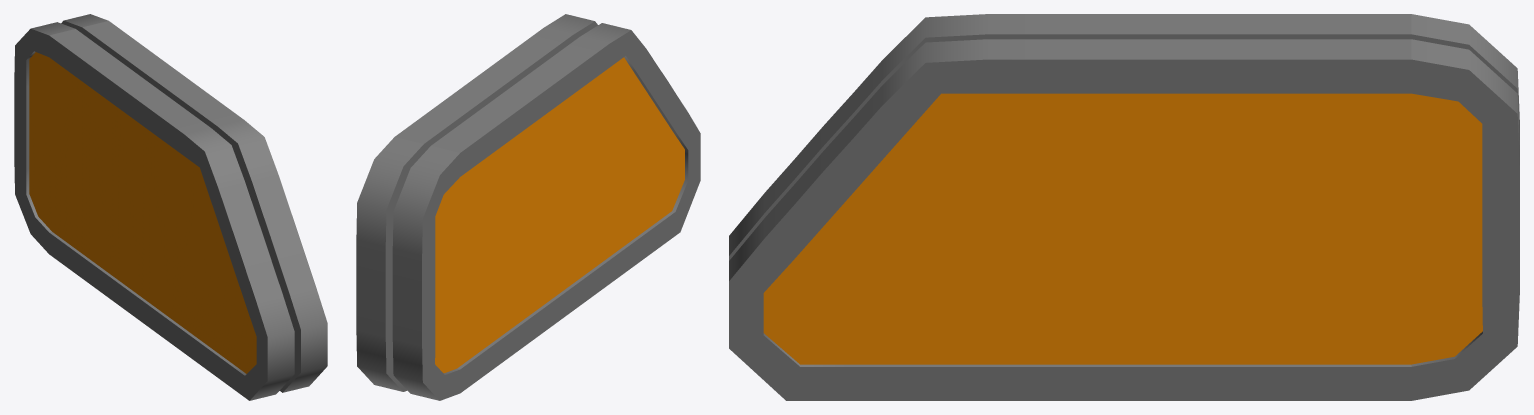
The model's file is BladeTest.fbx.
3 views of the same model, side by side, from view 1: azimuth 30°, elevation 25°; view 2: azimuth 150°, elevation 25°; view 3: azimuth 270°, elevation 25° (orthographic). The views are drawn at different scales.
Parts seen in each view (by area): view 1: Chain_Tip (×2), BladeExt, BladeTip, Chain_Bottom (×2), ChainBack (×2), BladeBack, Chain_Top; view 2: BladeExt, ChainBack (×2), BladeTip, Chain_Bottom (×2), Chain_Tip (×2), BladeBack, Chain_Top; view 3: BladeExt, BladeTip, Chain_Tip (×2), Chain_Bottom (×2), ChainBack (×2), BladeBack, Chain_Top.
Part boxes in pixels (x1,y1,x2,y2): Chain_Tip (×2): (169, 109, 327, 400); BladeExt: (52, 60, 172, 319); BladeTip: (172, 148, 256, 373); Chain_Bottom (×2): (49, 21, 228, 144); ChainBack (×2): (14, 14, 108, 253); BladeBack: (29, 52, 52, 231); Chain_Top: (49, 232, 172, 342); BladeExt: (457, 83, 589, 368); ChainBack (×2): (356, 137, 460, 400); BladeTip: (589, 57, 684, 271); Chain_Bottom (×2): (395, 40, 592, 176); Chain_Tip (×2): (527, 14, 700, 295); BladeBack: (435, 181, 456, 373); Chain_Top: (457, 271, 592, 392); BladeExt: (1035, 93, 1411, 364); BladeTip: (763, 93, 1035, 364); Chain_Tip (×2): (729, 14, 1035, 400); Chain_Bottom (×2): (1035, 14, 1411, 93); ChainBack (×2): (1411, 14, 1519, 400); BladeBack: (1411, 93, 1482, 364); Chain_Top: (1035, 364, 1411, 400).
Bounding box in the file's own units: 0.0573 × 0.2004 × 0.4205.
